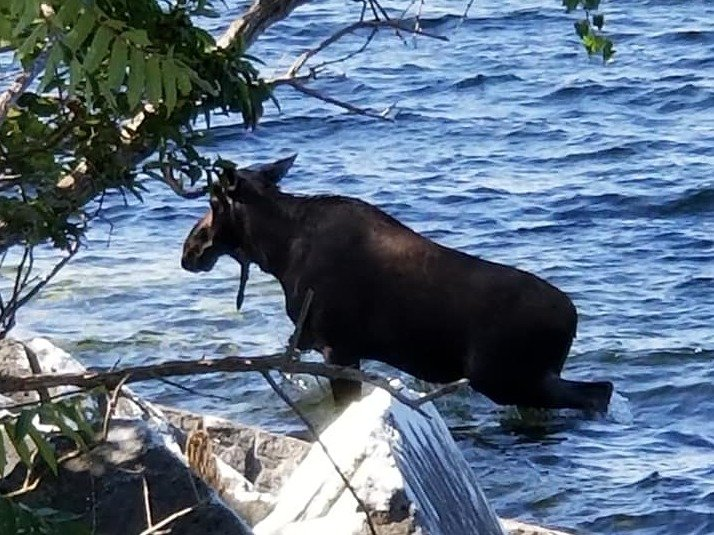moose: (182, 152, 621, 423)
